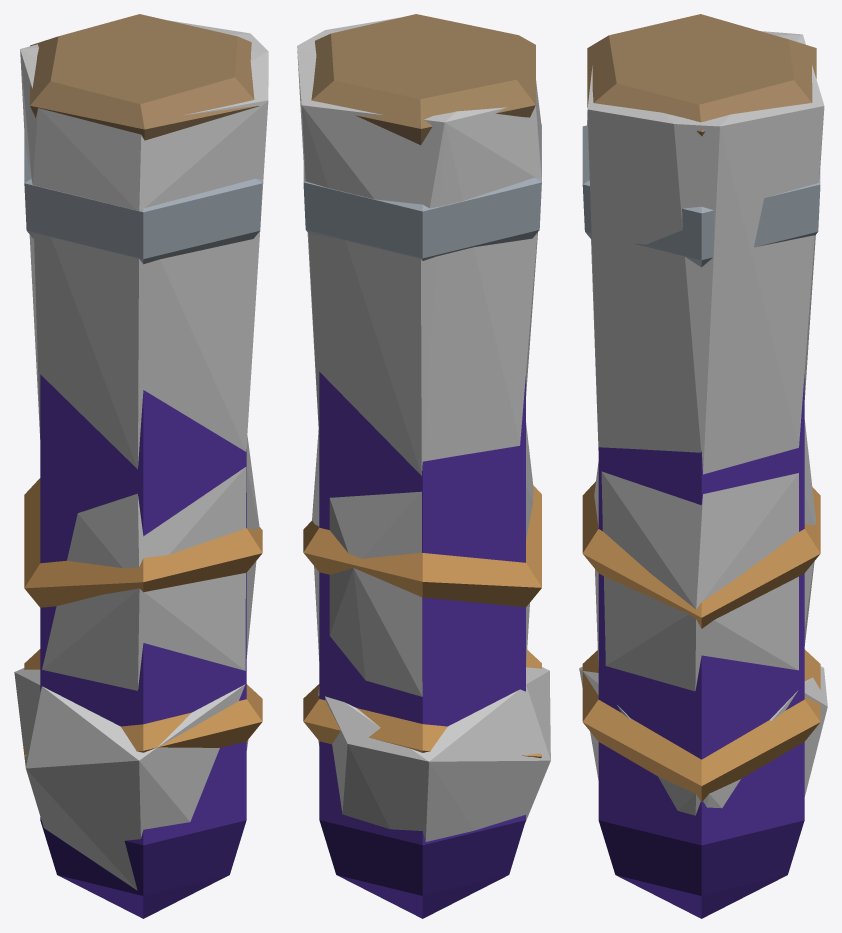
Rendered from SM_Prop_Potion_Stand_01_Bottle_02.fbx.
3 renders of one model, left to right at view 1: azimuth 30°, elevation 25°; view 2: azimuth 150°, elevation 25°; view 3: azimuth 270°, elevation 25°, orthographic.
Visible parts, largest first — view 1: SM_Prop_Potion_Stand_01_Bottle_02_ConvexHulls, SM_Prop_Potion_Stand_01_Bottle_02; view 2: SM_Prop_Potion_Stand_01_Bottle_02_ConvexHulls, SM_Prop_Potion_Stand_01_Bottle_02; view 3: SM_Prop_Potion_Stand_01_Bottle_02_ConvexHulls, SM_Prop_Potion_Stand_01_Bottle_02.
Part boxes in pixels (<box>): SM_Prop_Potion_Stand_01_Bottle_02_ConvexHulls: <box>14,20,268,890</box>; SM_Prop_Potion_Stand_01_Bottle_02: <box>24,14,262,918</box>; SM_Prop_Potion_Stand_01_Bottle_02_ConvexHulls: <box>297,18,550,841</box>; SM_Prop_Potion_Stand_01_Bottle_02: <box>303,14,541,918</box>; SM_Prop_Potion_Stand_01_Bottle_02_ConvexHulls: <box>579,31,827,815</box>; SM_Prop_Potion_Stand_01_Bottle_02: <box>582,14,820,918</box>.
Bounding box in the file's own units: 9.05 × 8.07 × 30.77.
2 materials, 1 textured.
